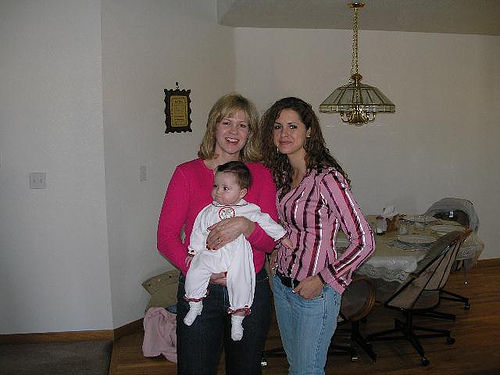without_mask: (271, 107, 310, 155), (212, 108, 249, 154), (209, 168, 246, 204)
